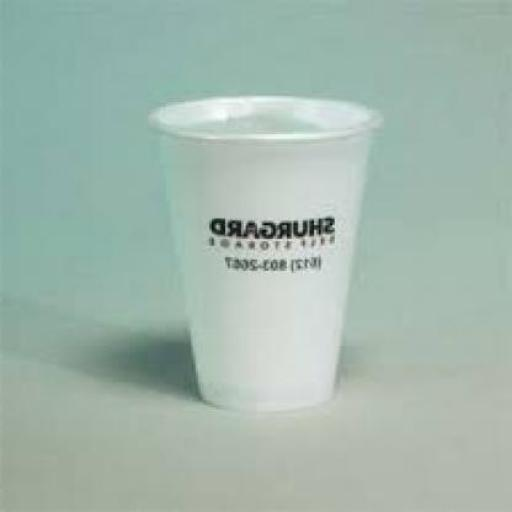paper: (148, 93, 385, 410)
